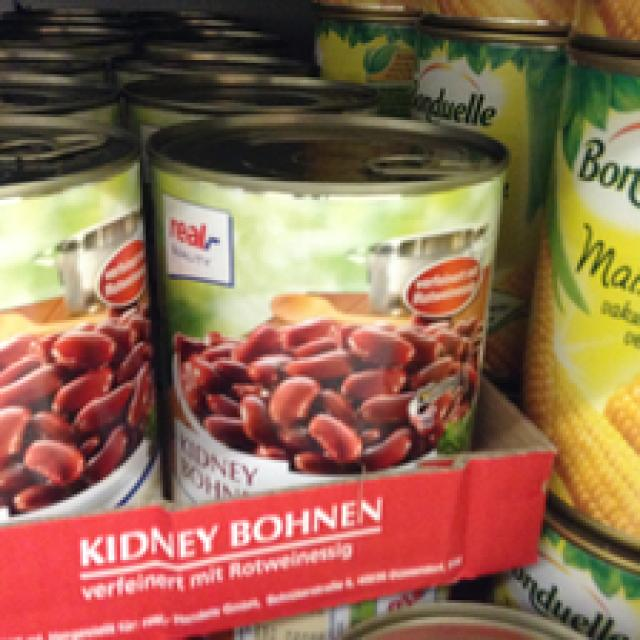groceries: (145, 112, 506, 517), (3, 114, 146, 543)
